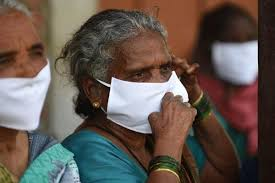mask: (97, 20, 193, 136), (1, 3, 53, 137), (201, 8, 259, 83)
